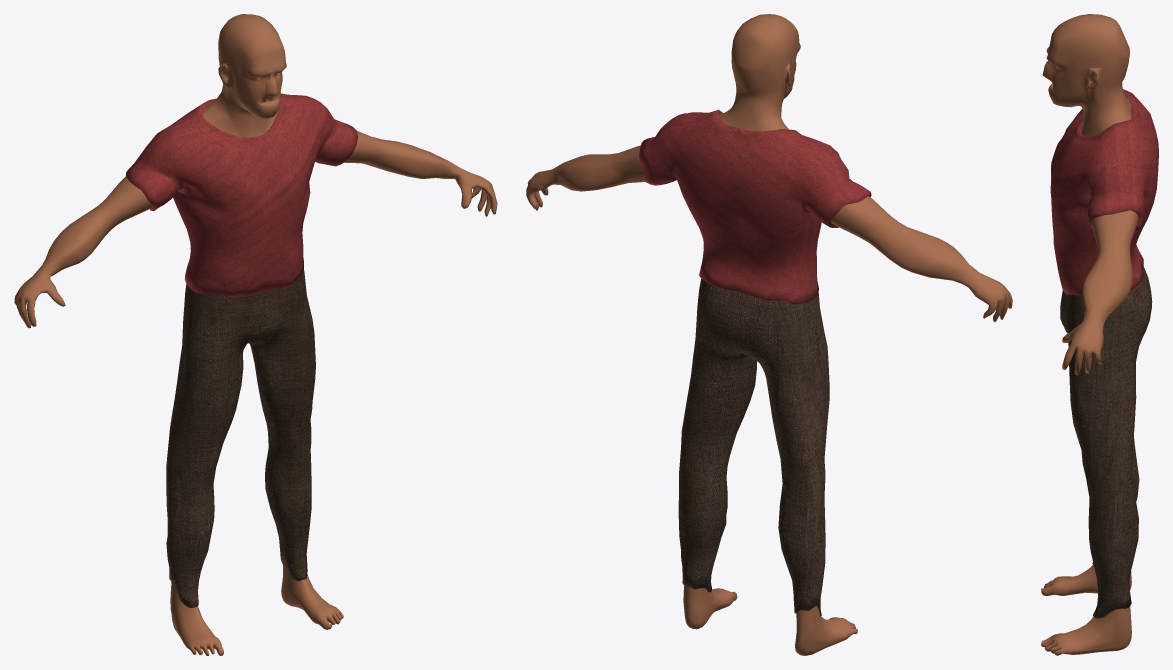
Rendered from corpo1.fbx.
3 views of the same model, side by side, from view 1: azimuth 30°, elevation 25°; view 2: azimuth 150°, elevation 25°; view 3: azimuth 270°, elevation 25° (orthographic).
Parts seen in each view (by area): view 1: male_genericMesh; view 2: male_genericMesh; view 3: male_genericMesh.
Part boxes in pixels (left/top/right/bottom): male_genericMesh: left=14, top=14, right=497, bottom=655; male_genericMesh: left=526, top=14, right=1012, bottom=655; male_genericMesh: left=1041, top=14, right=1158, bottom=655.
Bounding box in the file's own units: 1643 × 2013 × 355.
Materials: 3 (3 with a texture image).
